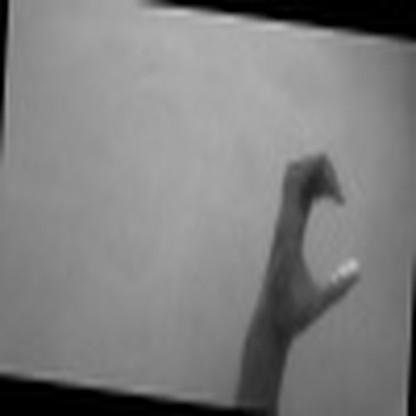c: (268, 146, 369, 331)
